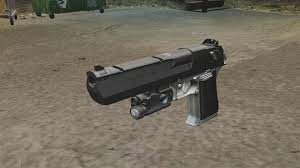gun: (84, 34, 230, 132)
